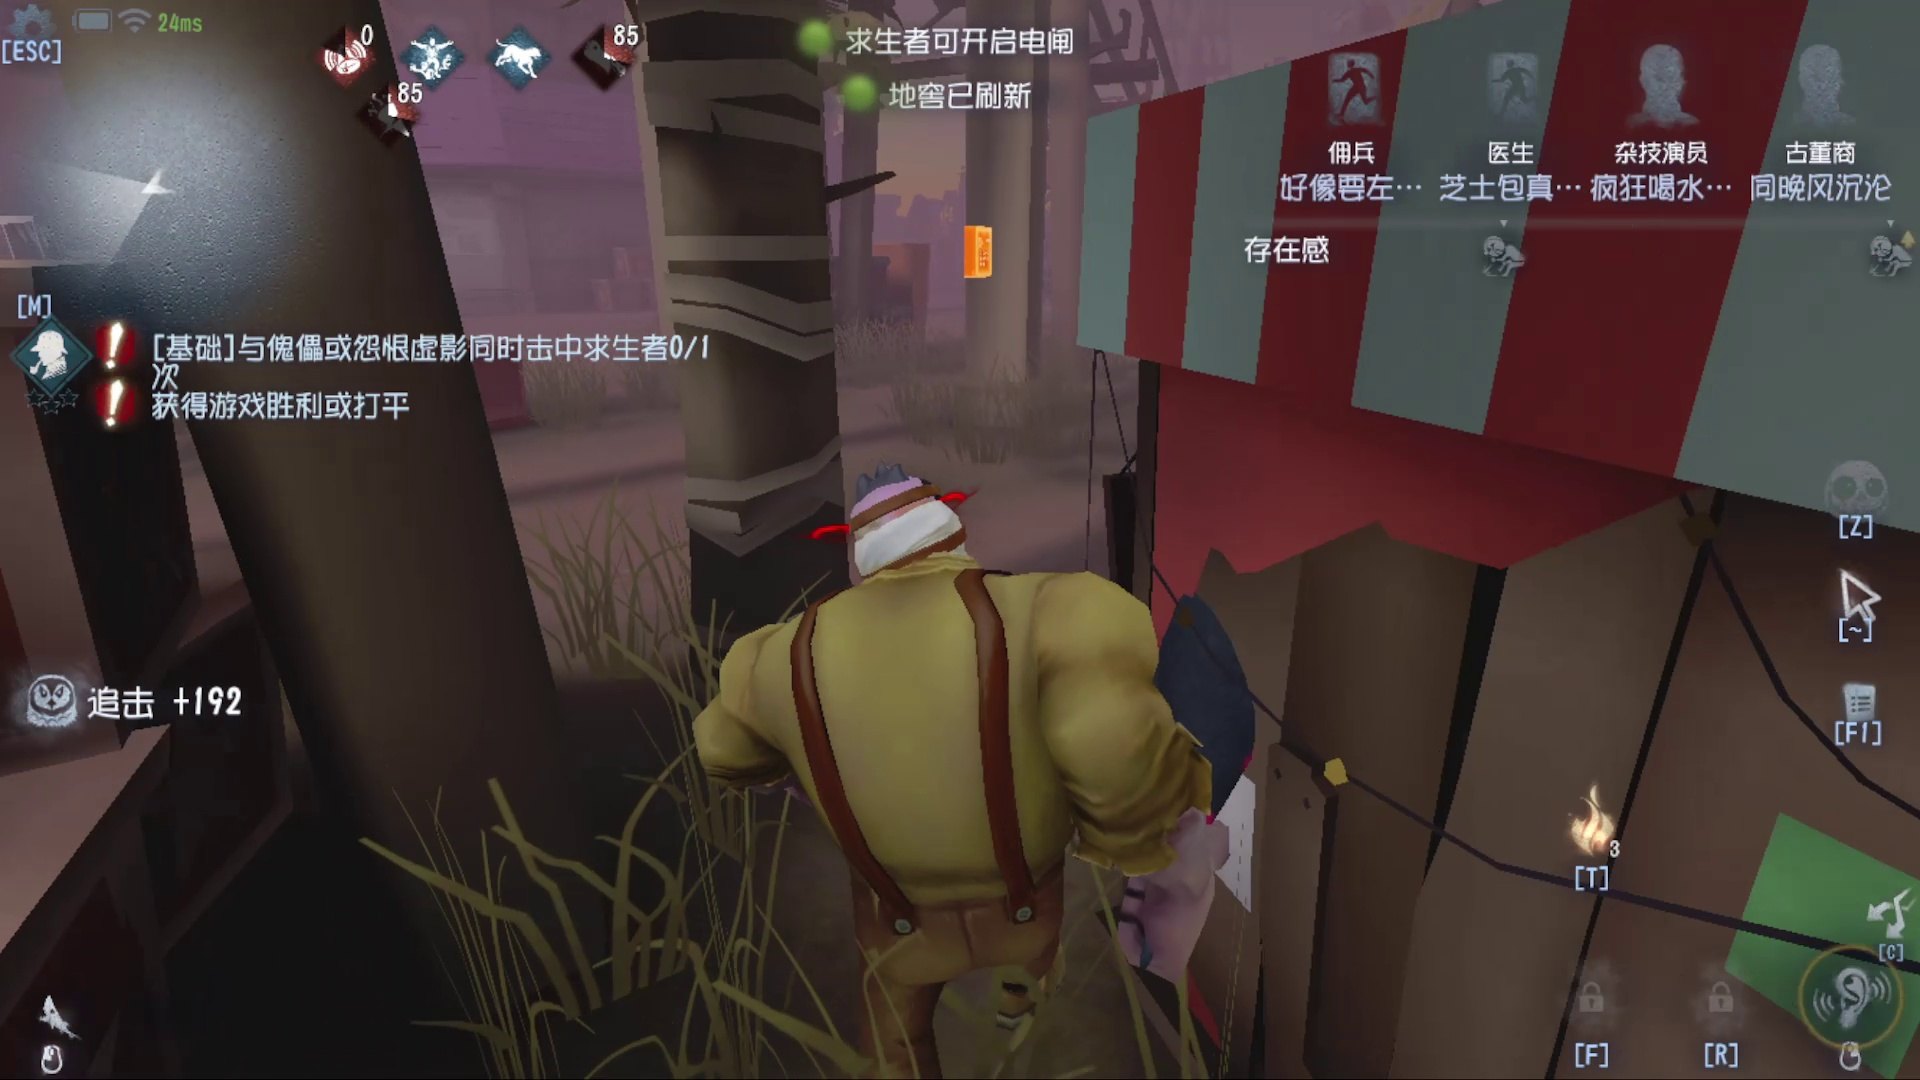技能: (1536, 746, 1651, 927)
